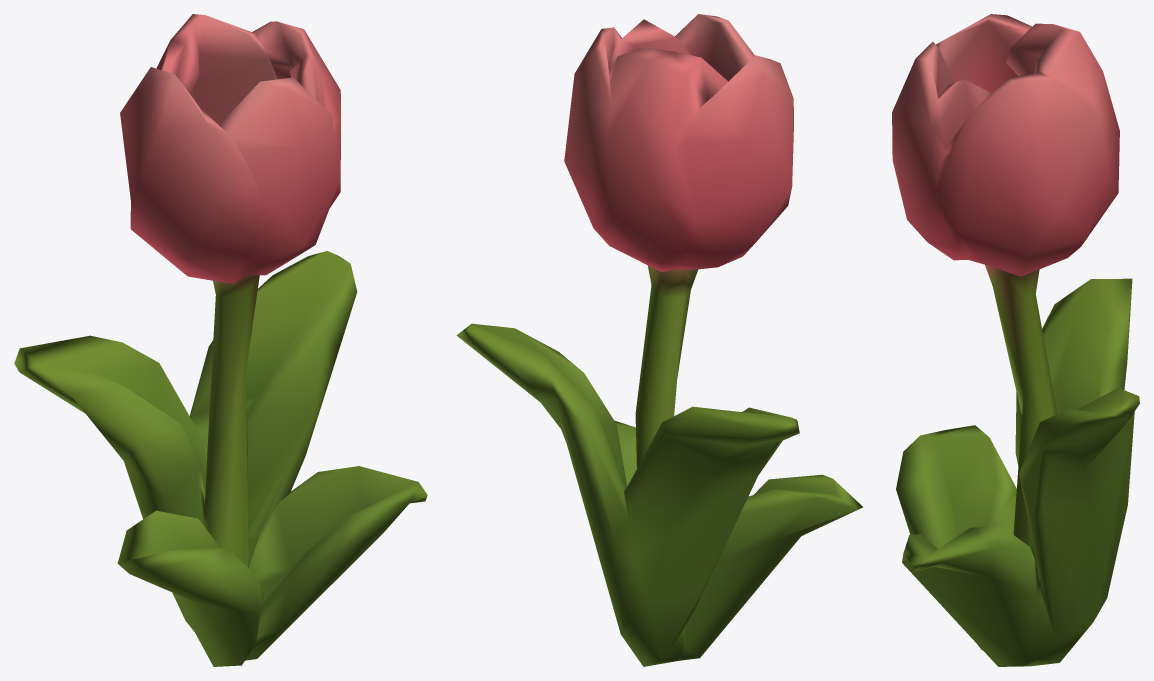
Rendered from tulip_mid.glb.
3 views of the same model, side by side, from view 1: azimuth 30°, elevation 25°; view 2: azimuth 150°, elevation 25°; view 3: azimuth 270°, elevation 25° (orthographic).
Bounding box in the file's own units: 1.05 × 1.9 × 0.675.
